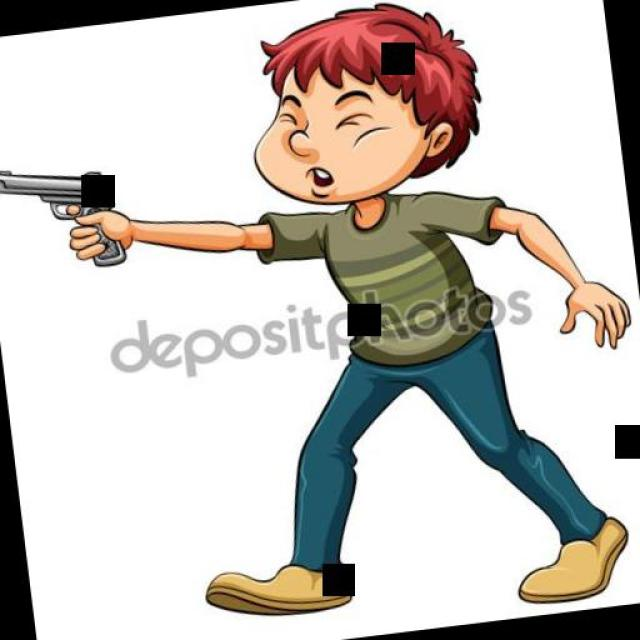gun: (0, 152, 134, 282)
